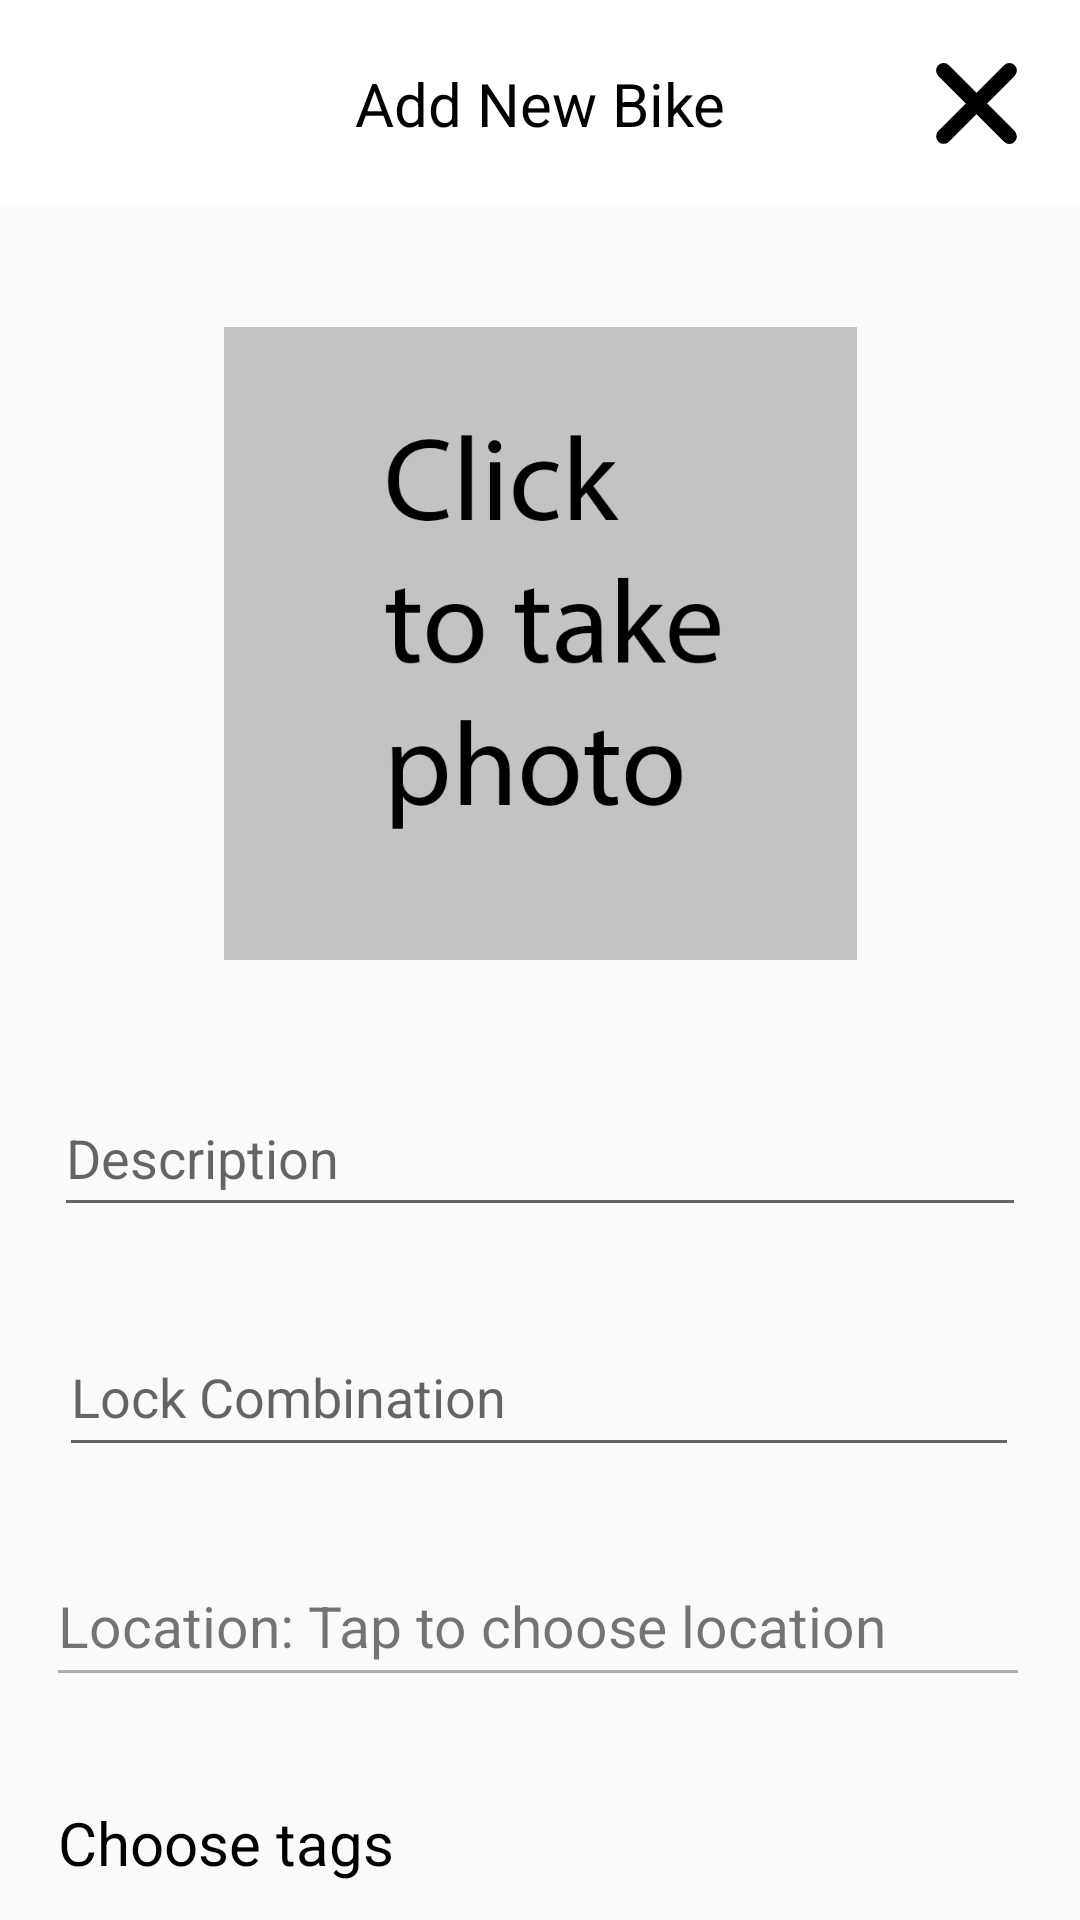

Icon click points for this 1080 x 1920 phone screenshot, format (x=x, y=y):
close: (x=976, y=103)
